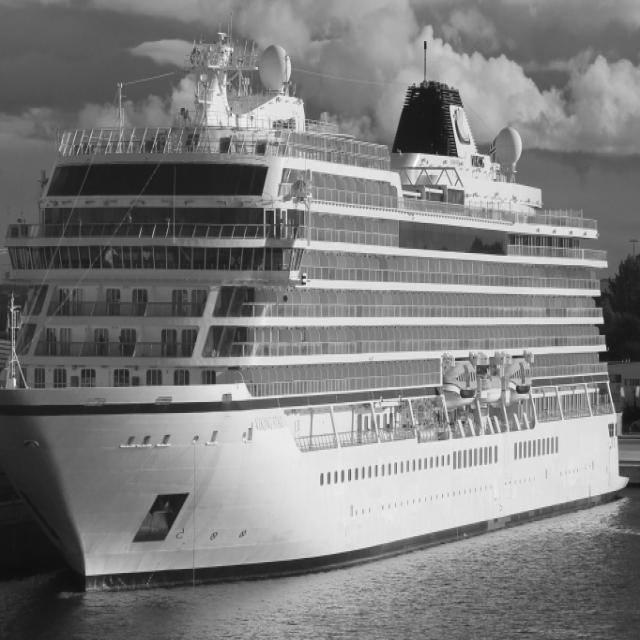cruises: (1, 20, 634, 606)
